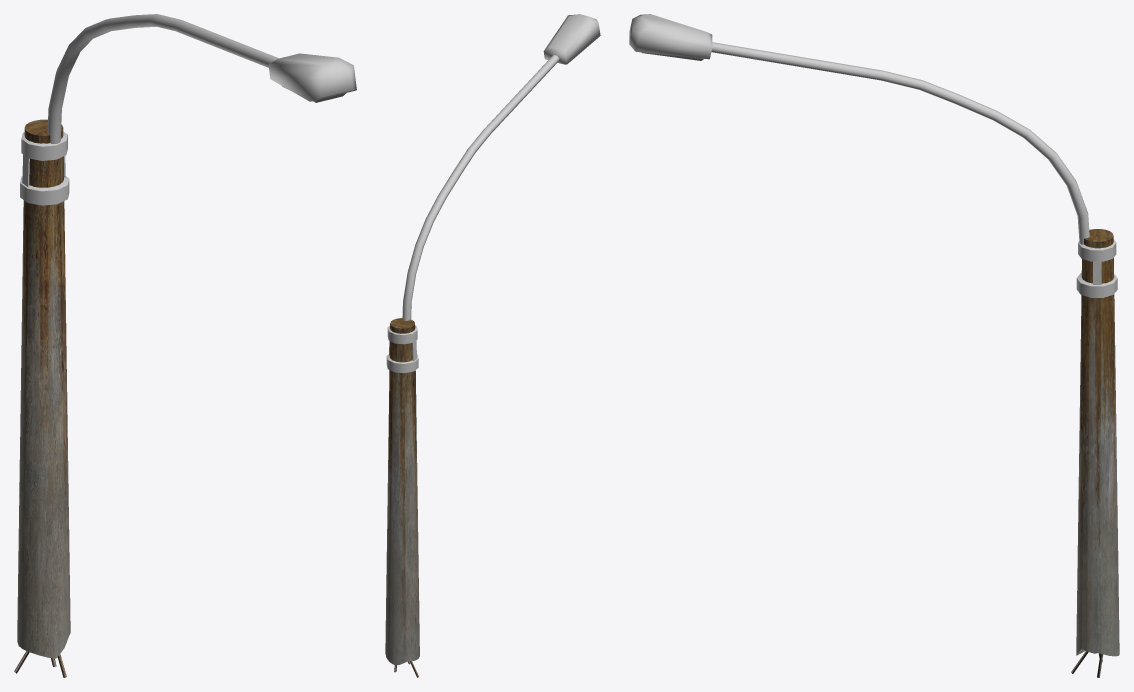
Rendered from RoadLamp3_2c.FBX.
The picture shows the model from 3 angles, left to right: view 1: azimuth 30°, elevation 25°; view 2: azimuth 150°, elevation 25°; view 3: azimuth 270°, elevation 25°; orthographic projection. The views are drawn at different scales.
Parts seen in each view (by area): view 1: LampPillar, LampMetall; view 2: LampPillar, LampMetall; view 3: LampPillar, LampMetall.
Part boxes in pixels (x1=…): LampPillar: x1=17, y1=119, x2=70, y2=658; LampMetall: x1=20, y1=14, x2=356, y2=205; LampPillar: x1=385, y1=318, x2=419, y2=665; LampMetall: x1=386, y1=14, x2=600, y2=373; LampPillar: x1=1076, y1=229, x2=1119, y2=656; LampMetall: x1=629, y1=14, x2=1117, y2=297.
Size of the model in its own units: 5.68 by 81.14 by 54.97.
